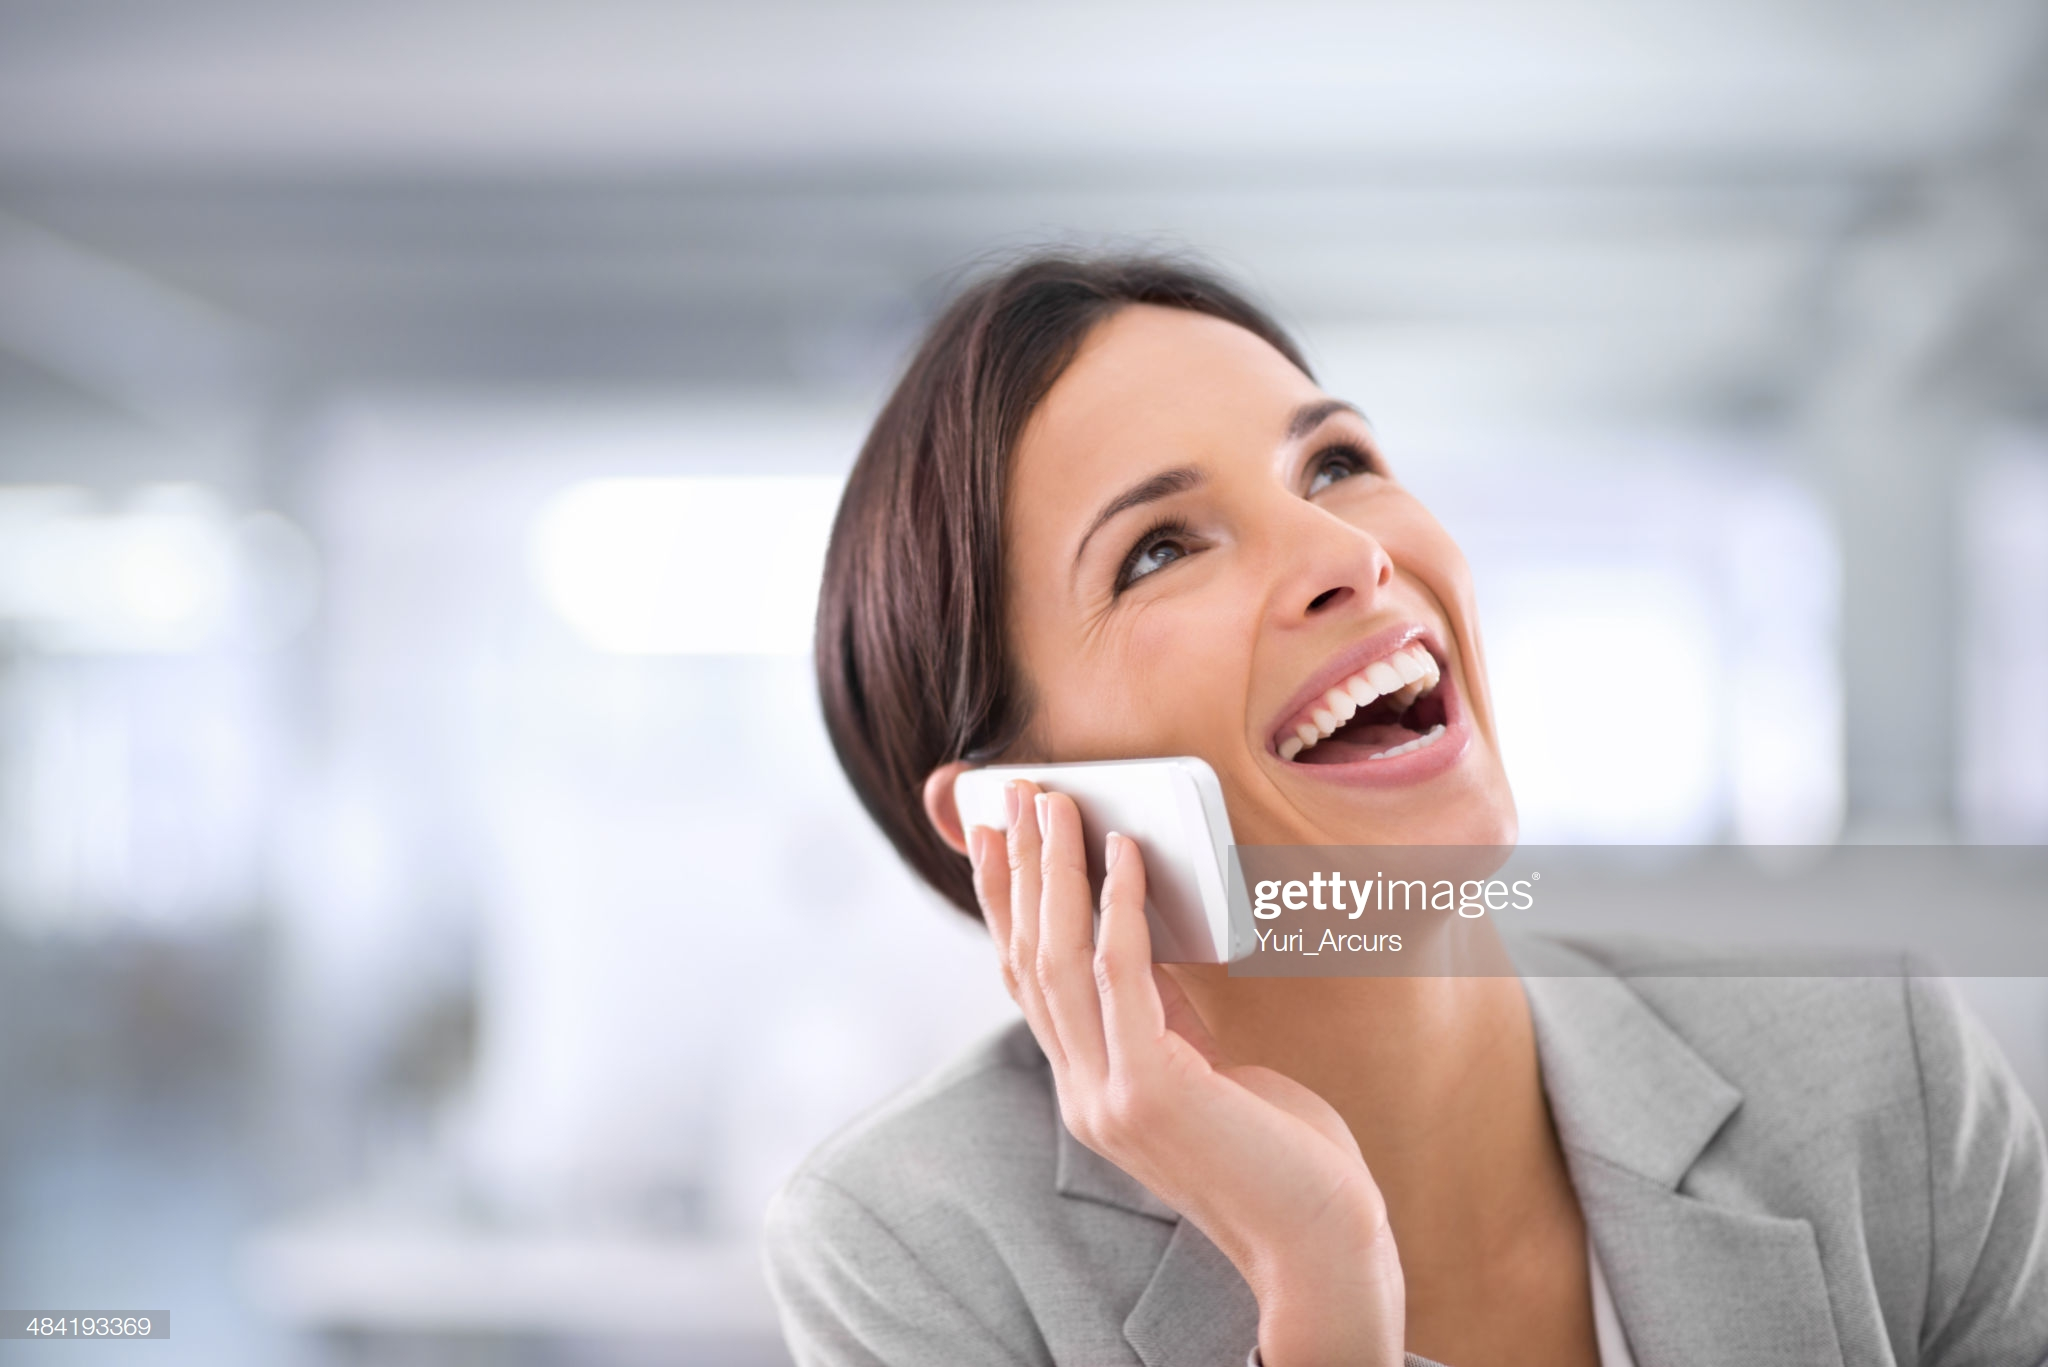phone: (897, 746, 1244, 976)
talk: (933, 394, 1522, 1323)
